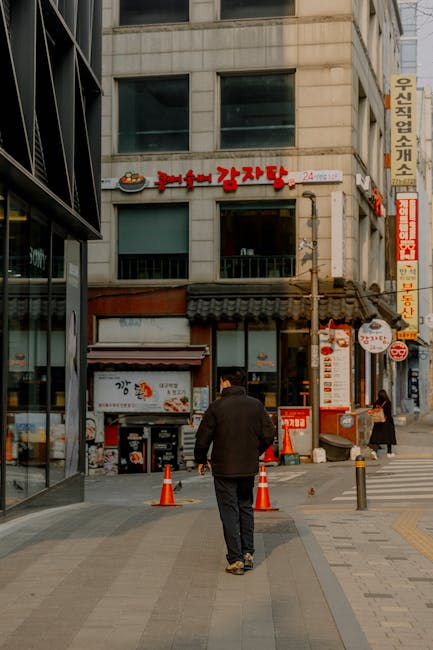traffic_cone: (151, 464, 183, 508), (252, 465, 279, 512), (280, 424, 295, 455), (261, 443, 280, 463), (5, 428, 14, 461)
